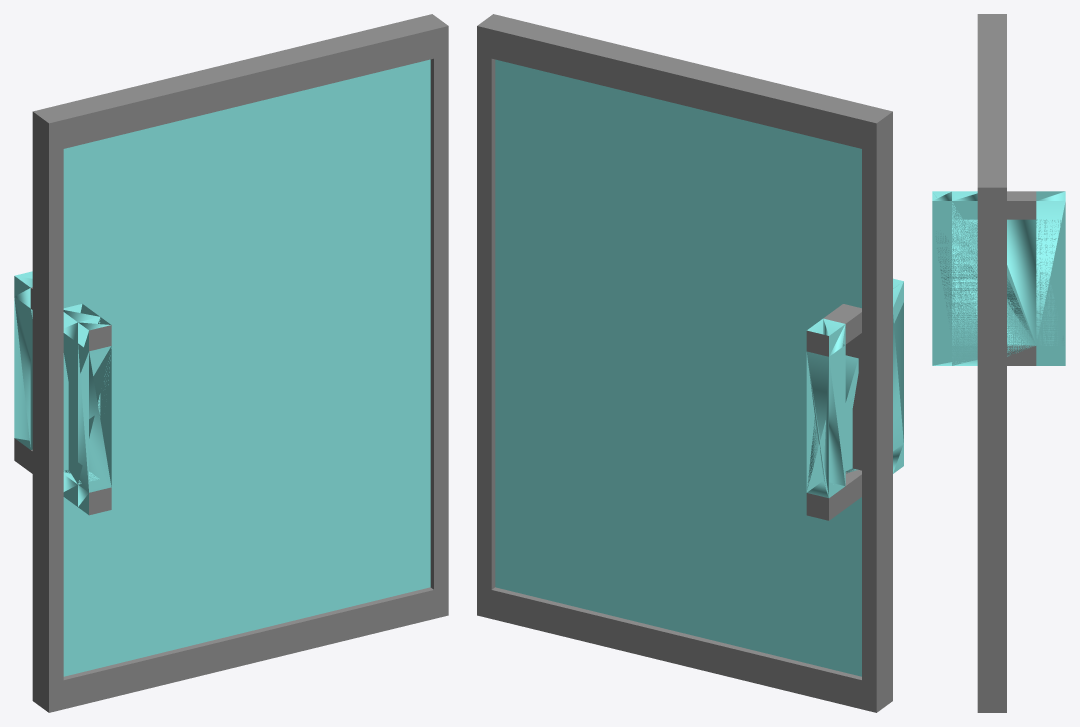
Rendered from mart@in_open_s.FBX.
3 renders of one model, left to right at view 1: azimuth 30°, elevation 25°; view 2: azimuth 150°, elevation 25°; view 3: azimuth 270°, elevation 25°, orthographic. The views are drawn at different scales.
Parts seen in each view (by area): view 1: Object002; view 2: Object002; view 3: Object002.
Boxes of the visible parts, left/top/right/bottom form: Object002: left=14, top=14, right=448, bottom=712; Object002: left=477, top=14, right=903, bottom=712; Object002: left=932, top=14, right=1065, bottom=712.
Bounding box in the file's own units: 12.69 × 17.89 × 4.11.
